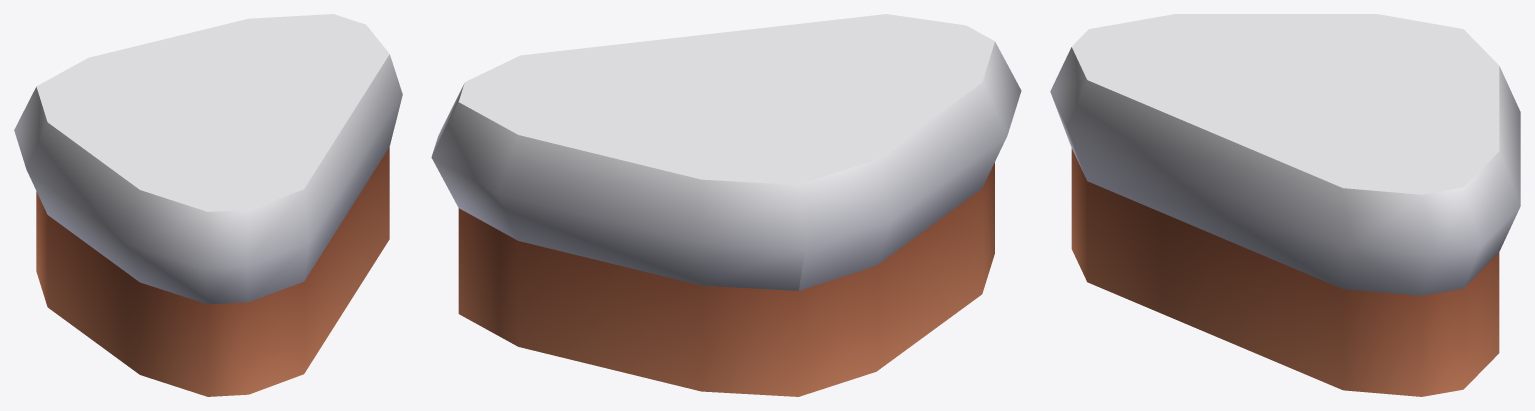
File: block-snow-corner-low.glb
3 renders of one model, left to right at view 1: azimuth 30°, elevation 25°; view 2: azimuth 150°, elevation 25°; view 3: azimuth 270°, elevation 25°, orthographic. The views are drawn at different scales.
Visible parts, largest first — view 1: block-snow-corner-low; view 2: block-snow-corner-low; view 3: block-snow-corner-low.
Part boxes in pixels (x1,y1,x2,y2): block-snow-corner-low: [14, 14, 402, 396]; block-snow-corner-low: [431, 14, 1021, 396]; block-snow-corner-low: [1050, 14, 1520, 396].
Size of the model in its own units: 1.05 by 0.5 by 1.05.
1 material, 1 textured.
